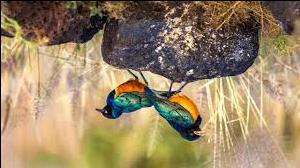Non_Gorille: (74, 34, 266, 154)
